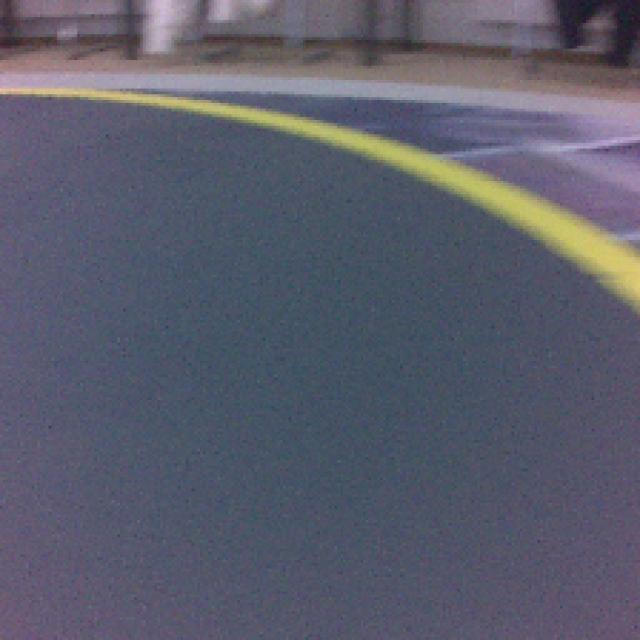Road: (5, 397, 640, 640)
